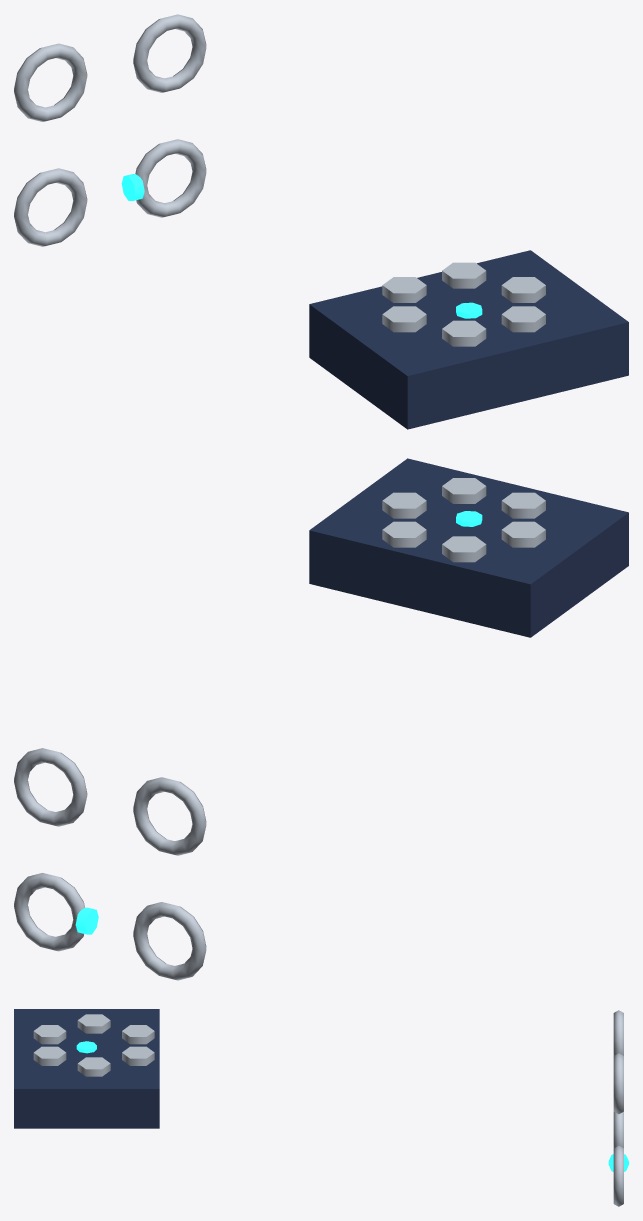
The model's file is tower_skywatch_damage_s3.glb.
3 views of the same model, one above another, from view 1: azimuth 30°, elevation 25°; view 2: azimuth 150°, elevation 25°; view 3: azimuth 270°, elevation 25° (orthographic). The views are drawn at different scales.
Visible parts, largest first — view 1: skywatch_housing_armour, skywatch_armour_bolts, skywatch_crown2, skywatch_crown3, skywatch_crown1, skywatch_crown0; view 2: skywatch_housing_armour, skywatch_armour_bolts, skywatch_crown1, skywatch_crown3, skywatch_crown2, skywatch_crown0; view 3: skywatch_housing_armour, skywatch_armour_bolts, skywatch_crown0, skywatch_crown1, skywatch_crown3, skywatch_crown2.
Boxes of the visible parts, x1,y1,x2,y2 form: skywatch_housing_armour: (309,250,628,429); skywatch_armour_bolts: (382,262,545,346); skywatch_crown2: (14,168,87,246); skywatch_crown3: (14,43,87,121); skywatch_crown1: (133,14,206,92); skywatch_crown0: (135,139,206,217); skywatch_housing_armour: (309,458,628,637); skywatch_armour_bolts: (382,478,545,562); skywatch_crown1: (14,748,87,826); skywatch_crown3: (133,777,206,855); skywatch_crown2: (133,902,206,980); skywatch_crown0: (14,873,84,951); skywatch_housing_armour: (14,1009,159,1128); skywatch_armour_bolts: (33,1014,154,1076); skywatch_crown0: (613,1146,623,1206); skywatch_crown1: (613,1053,623,1114); skywatch_crown3: (613,1010,623,1055); skywatch_crown2: (613,1111,623,1148).
Size of the model in its own units: 0.52 by 0.4477 by 1.69.
